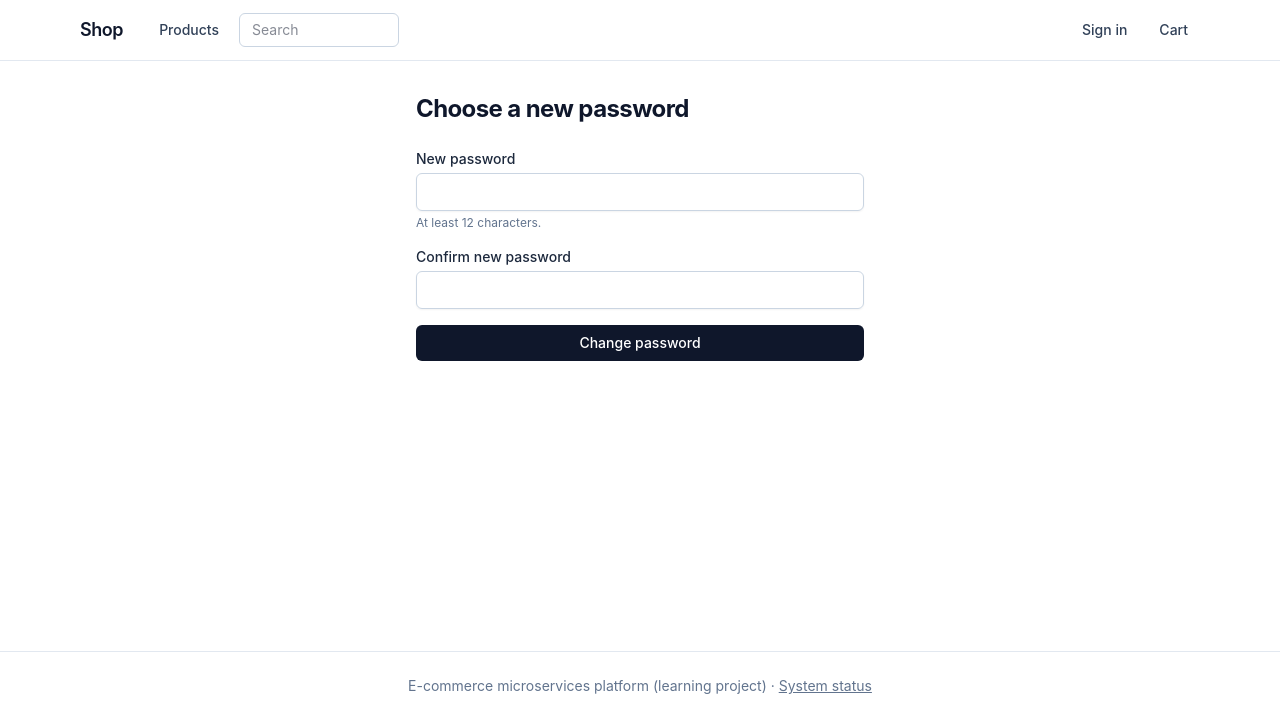
reset password link › explains an expired link
The width and height of the screenshot is (1280, 720).
Type "a brand new passphrase" into the password field labelled "New password" at (640, 192), box [416, 173, 864, 211]
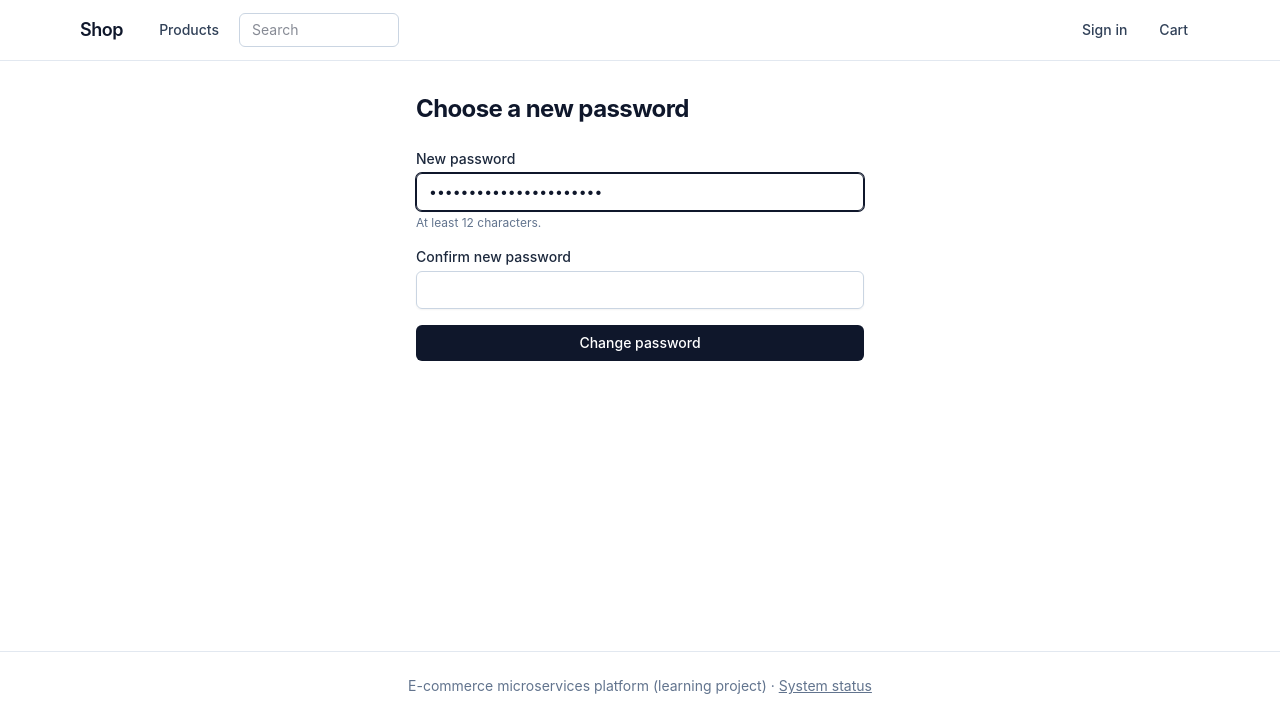
Type "a brand new passphrase" into the password field labelled "Confirm new password" at (640, 290), box [416, 271, 864, 309]
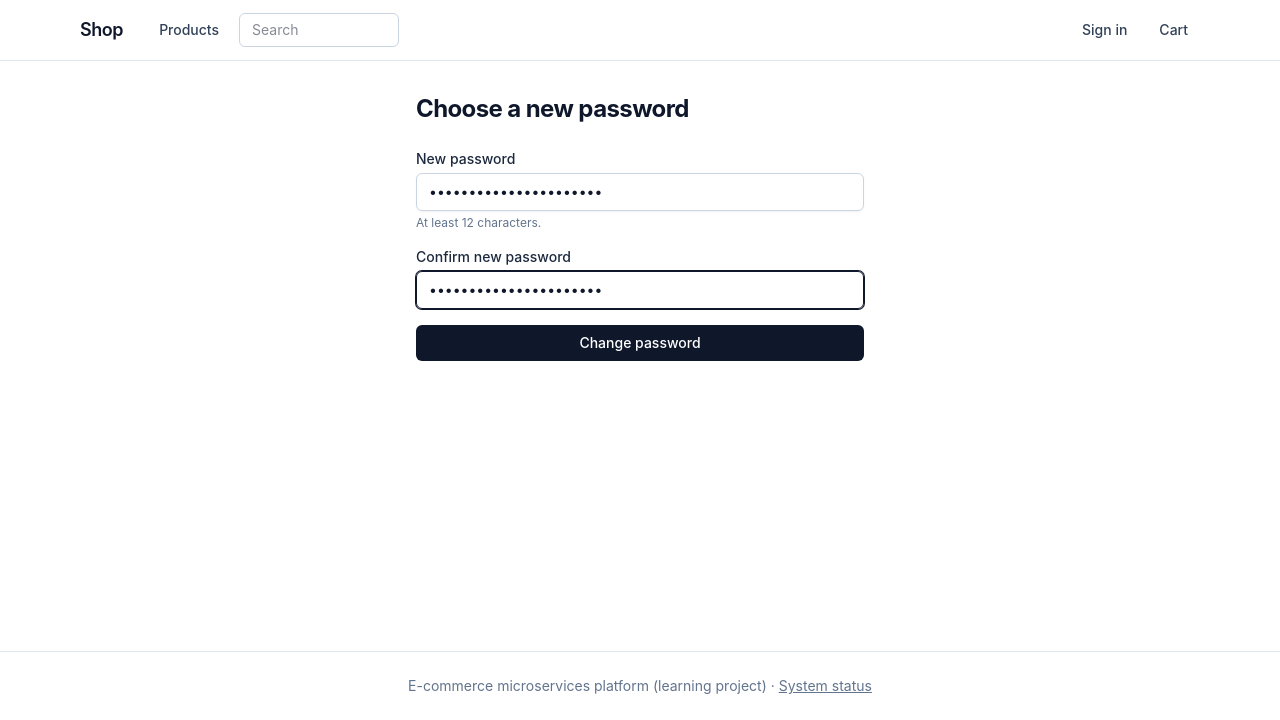
Click the button "Change password" at (640, 343), box [416, 325, 864, 361]
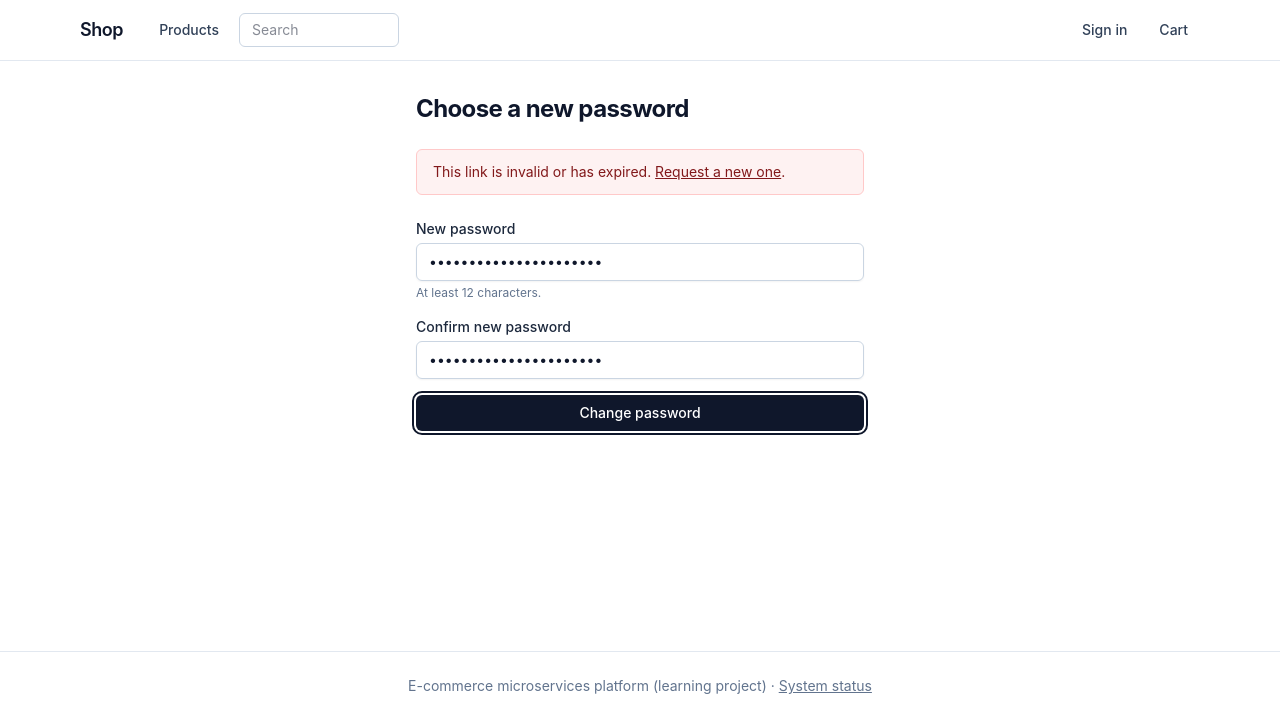
Now the link "Request a new one" is shown, box [655, 163, 781, 180]
